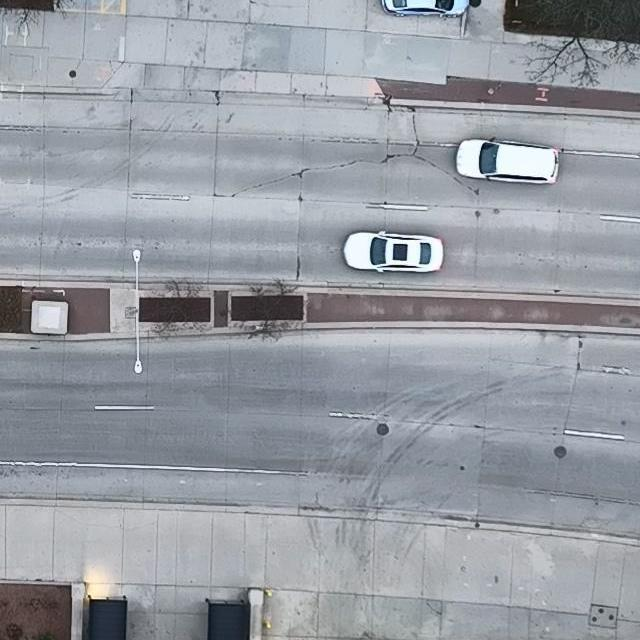car: (456, 136, 559, 186), (343, 229, 444, 274), (381, 0, 469, 16)
